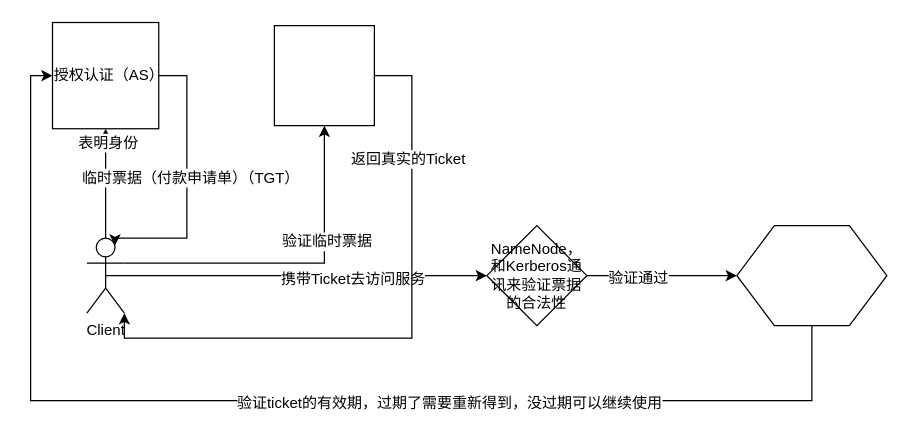
This 909x433 diagram has some shape labels left out. The shapes that lost their labels are listed below. From the top down, each one's centre as x and y in pixels, then its label:
At (x=323, y=75): "票据中心（TGS）".
At (x=811, y=275): "/tmp/a.txt".
